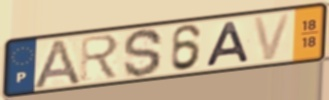6: (170, 22, 203, 73)
A: (29, 37, 84, 91), (202, 19, 252, 68)
R: (78, 33, 121, 83)
S: (122, 27, 165, 79)
V: (251, 11, 294, 63)
